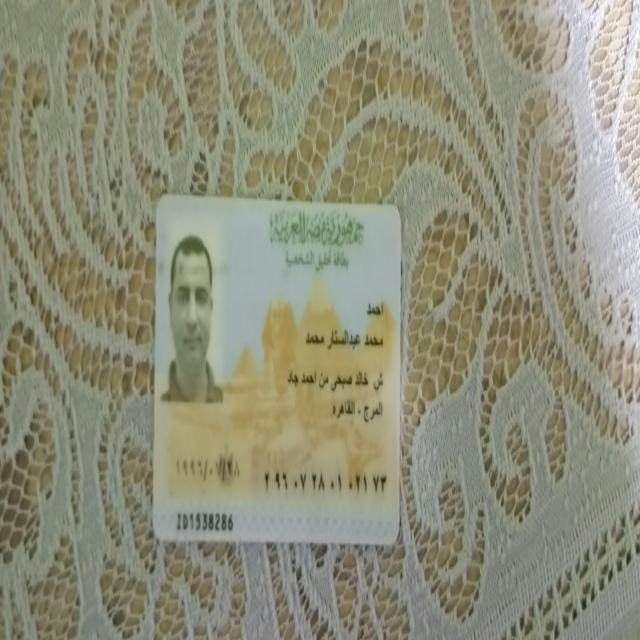ID-cards: (147, 186, 408, 563)
